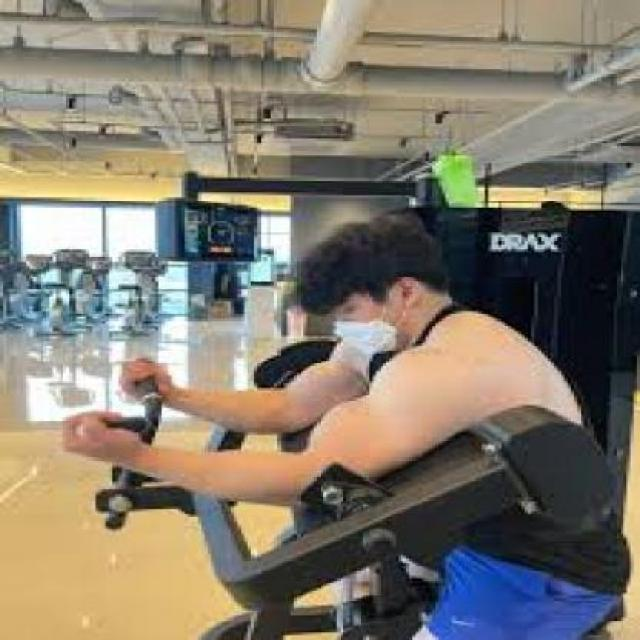arm curl machine: (95, 354, 640, 640)
